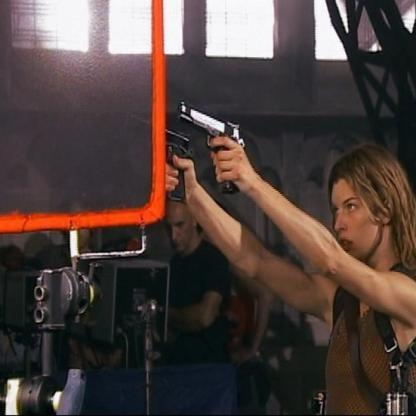gun: (175, 99, 247, 188)
